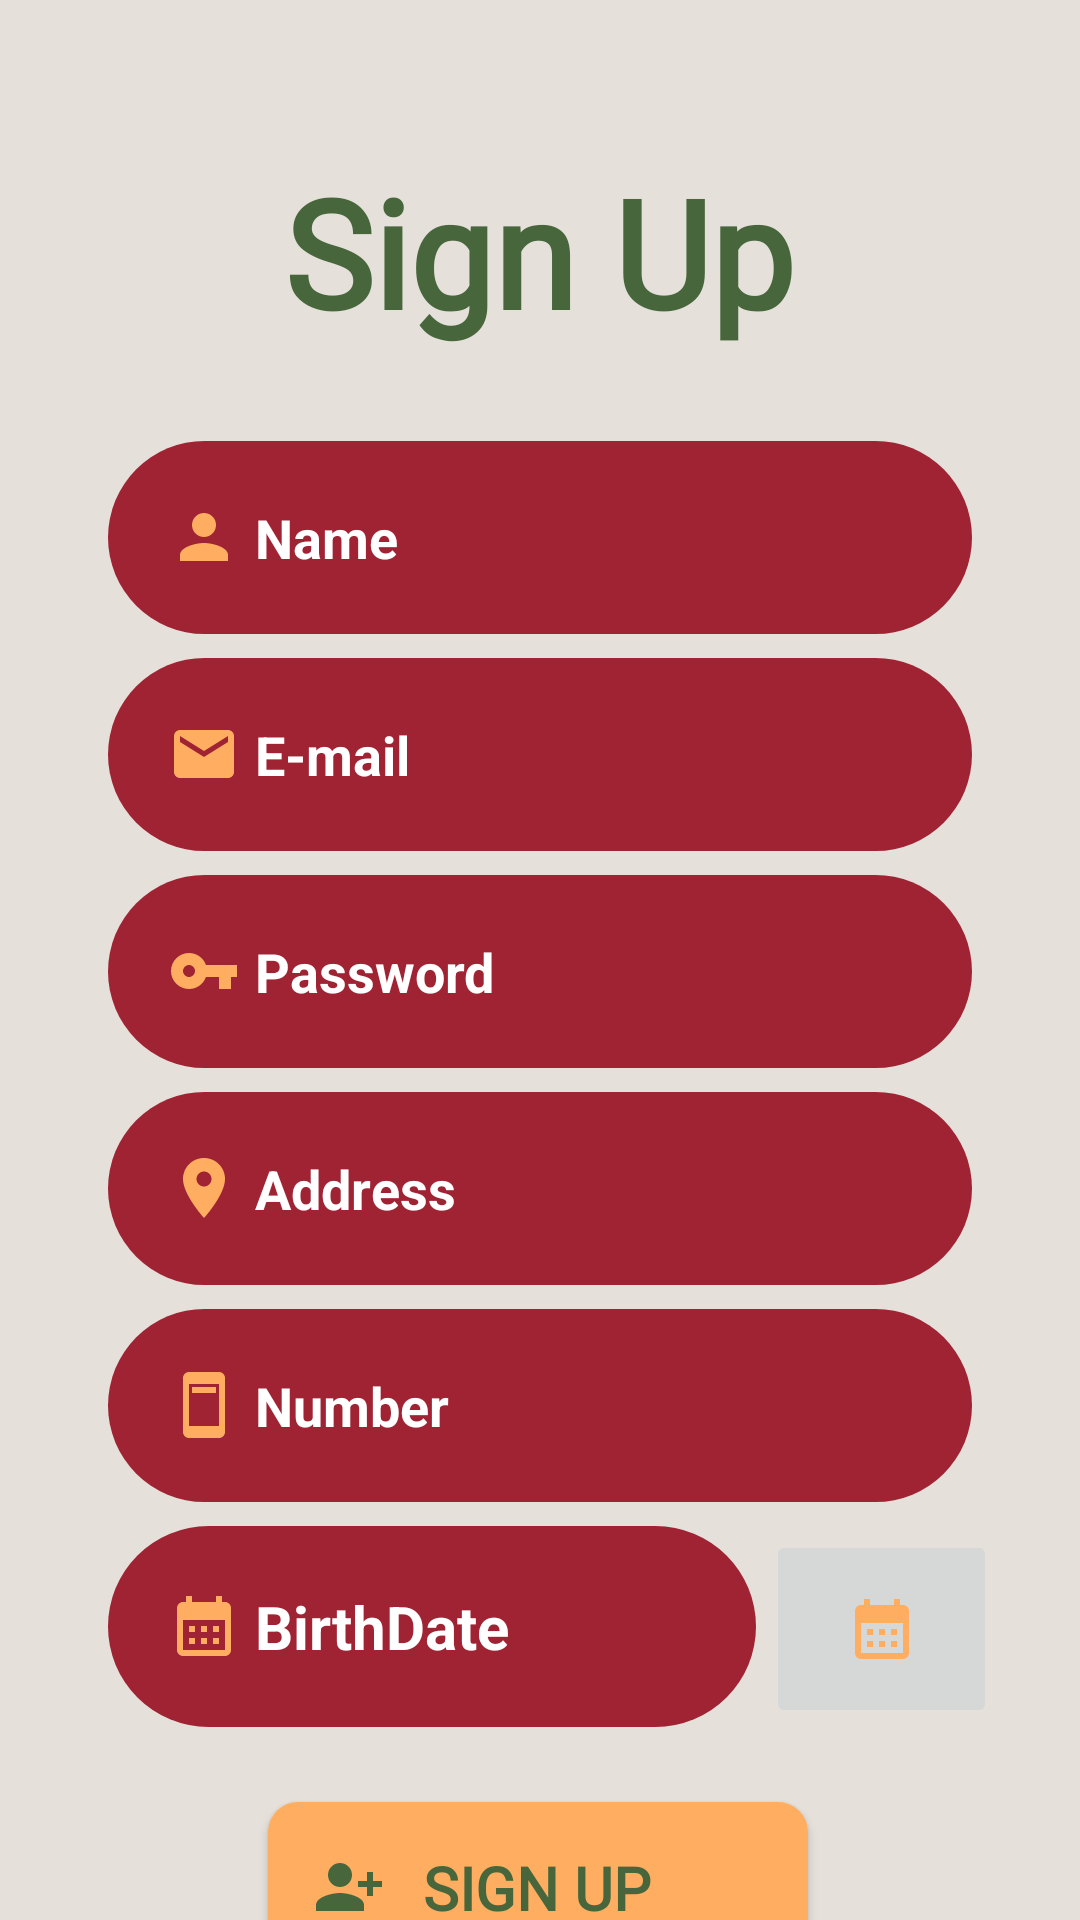

Icons on this 1080 x 1920 Android screen, each with its box as (x1, y1, x2, y2):
calendar month: (855, 1599, 909, 1659)
